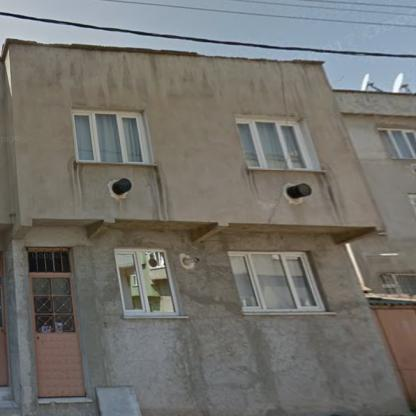door: (31, 276, 85, 398)
window: (228, 252, 325, 312), (114, 249, 180, 318), (236, 117, 318, 171), (72, 108, 151, 163), (28, 248, 71, 275), (378, 128, 415, 158), (382, 273, 415, 294)
